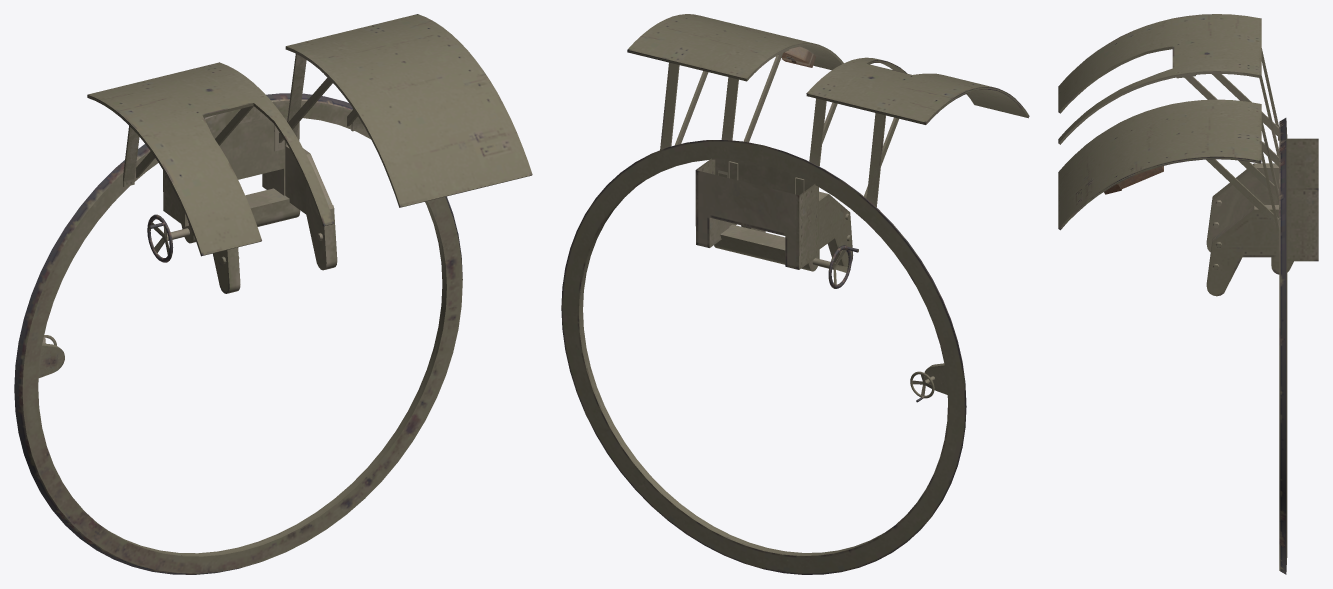
Rendered from Turret_02.glb.
3 renders of one model, left to right at view 1: azimuth 30°, elevation 25°; view 2: azimuth 150°, elevation 25°; view 3: azimuth 270°, elevation 25°, orthographic. The views are drawn at different scales.
Visible parts, largest first — view 1: set_0_group_0; view 2: set_0_group_0; view 3: set_0_group_0.
Part boxes in pixels (x1=…): set_0_group_0: x1=14, y1=14, x2=532, y2=574; set_0_group_0: x1=561, y1=14, x2=1029, y2=574; set_0_group_0: x1=1058, y1=14, x2=1318, y2=574.
Size of the model in its own units: 2.08 by 2.34 by 1.18.
Materials: 1 (1 with a texture image).
